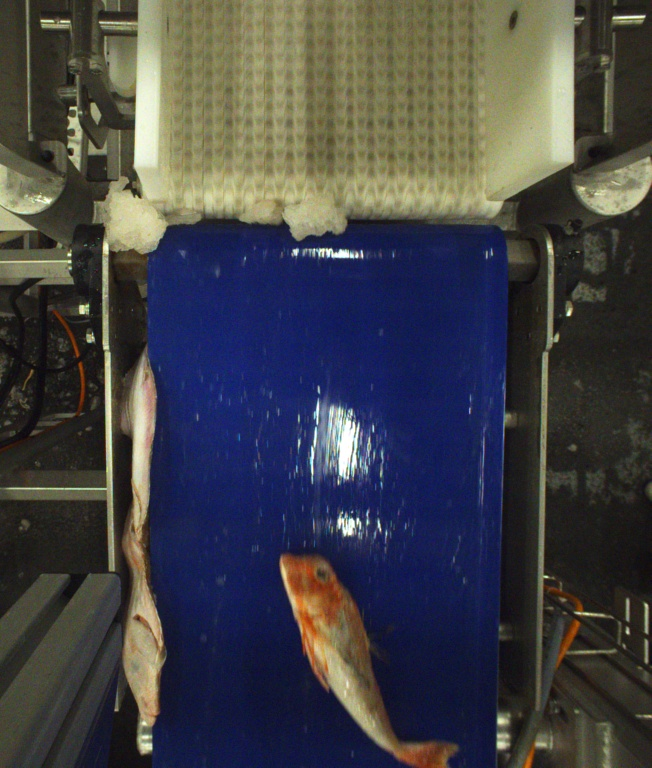GUU: (276, 554, 458, 768)
